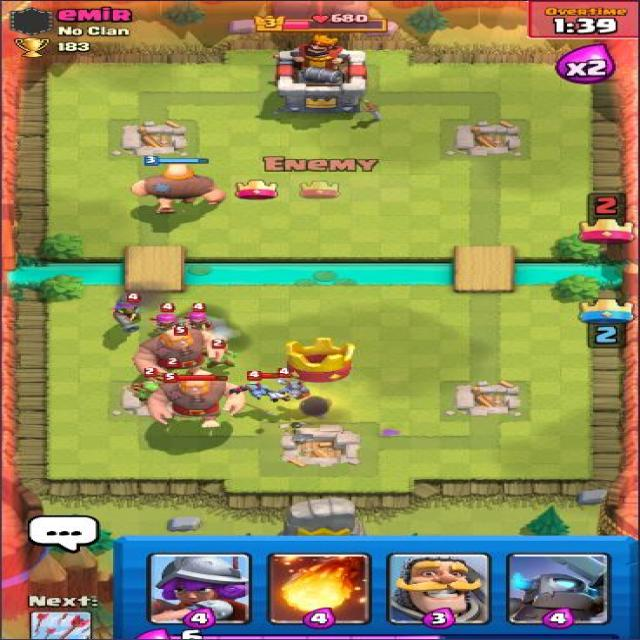Enemy-Archer: (182, 302, 215, 335), (151, 303, 183, 332)
Enemy-Giant: (146, 372, 249, 430), (130, 326, 222, 385)
Enemy-Minion: (226, 370, 292, 405), (272, 367, 312, 401)
Enemy-Musketeer: (111, 292, 150, 332)
Enemy-SpearGoblin: (127, 367, 170, 403), (196, 336, 242, 369), (162, 357, 195, 388)
Player-Giant: (129, 155, 231, 216)
